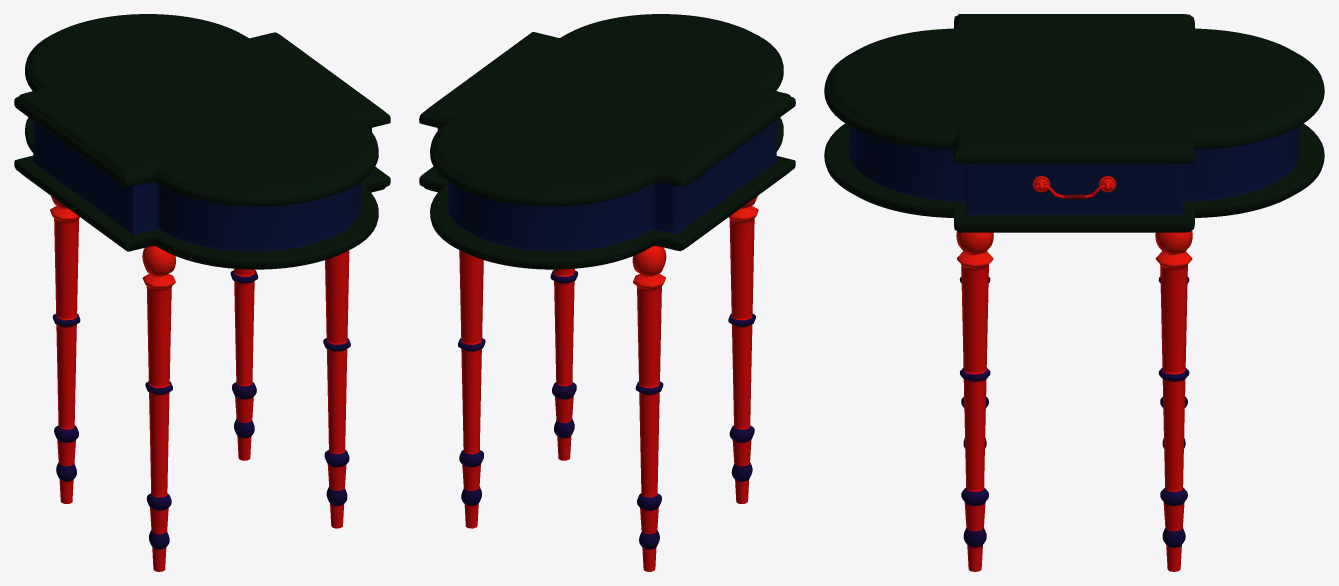
The model's file is MesaGramofono_FinalConfig 1.fbx.
3 views of the same model, side by side, from view 1: azimuth 30°, elevation 25°; view 2: azimuth 150°, elevation 25°; view 3: azimuth 270°, elevation 25° (orthographic). The views are drawn at different scales.
Parts seen in each view (by area): view 1: Cylinder.007; view 2: Cylinder.007; view 3: Cylinder.007.
Part boxes in pixels (bbox=[...]): Cylinder.007: bbox=[14, 14, 390, 571]; Cylinder.007: bbox=[419, 14, 795, 571]; Cylinder.007: bbox=[824, 14, 1324, 571].
Size of the model in its own units: 426 by 416 by 281.
